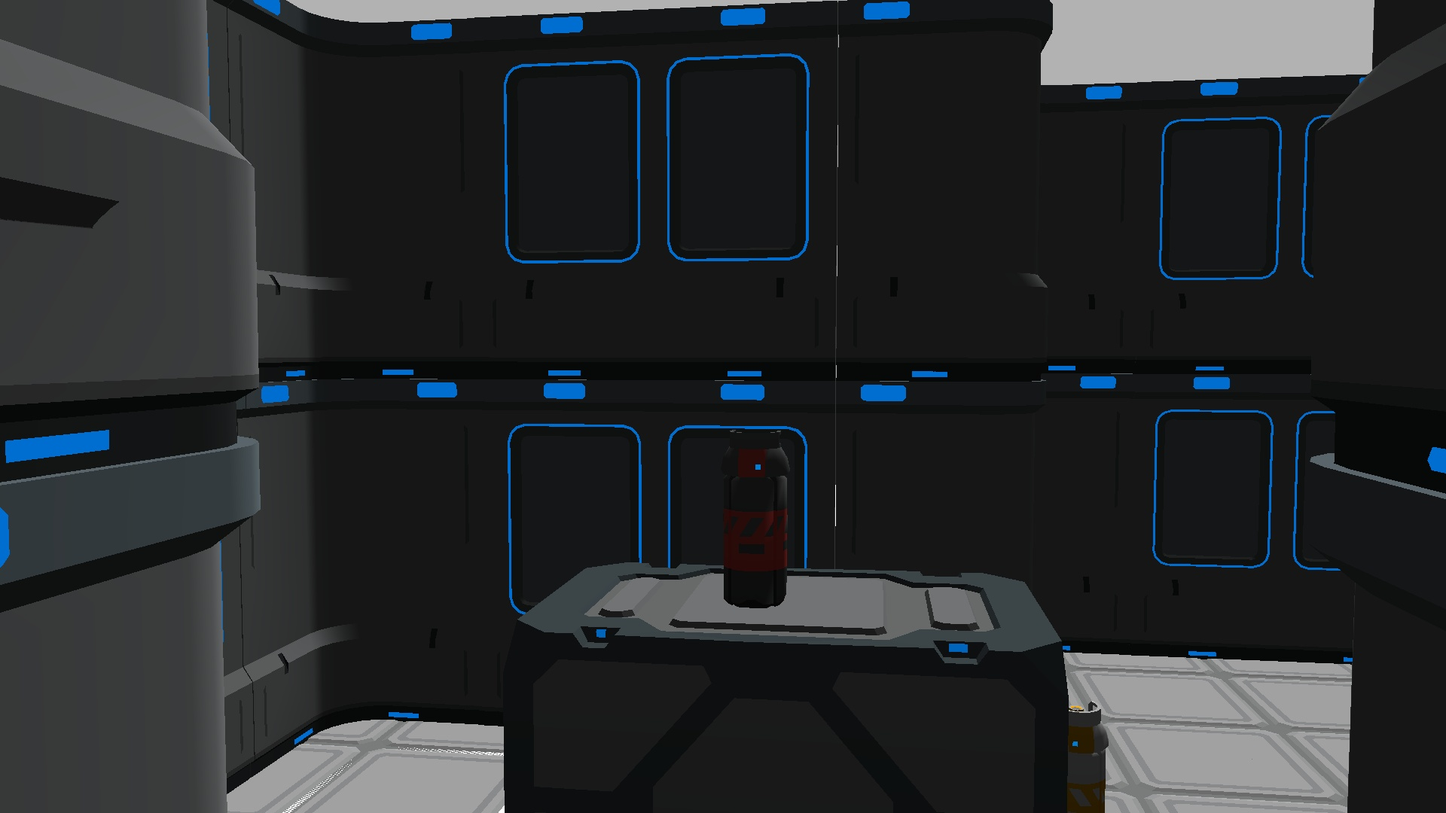red barrel: (723, 428, 790, 608)
yellow barrel: (1067, 701, 1109, 813)
